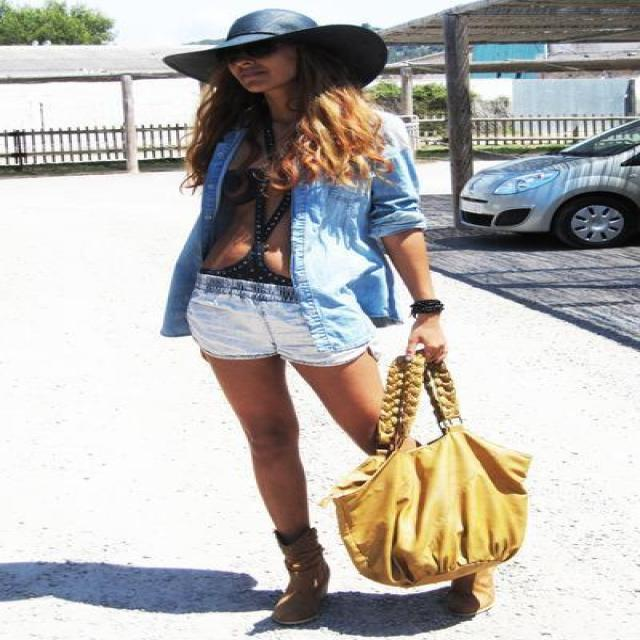bag: (333, 356, 531, 588)
hat: (182, 8, 400, 88)
jacket: (160, 95, 440, 336)
shirt: (202, 141, 324, 285)
shoe: (275, 526, 493, 620)
shorts: (187, 269, 365, 370)
